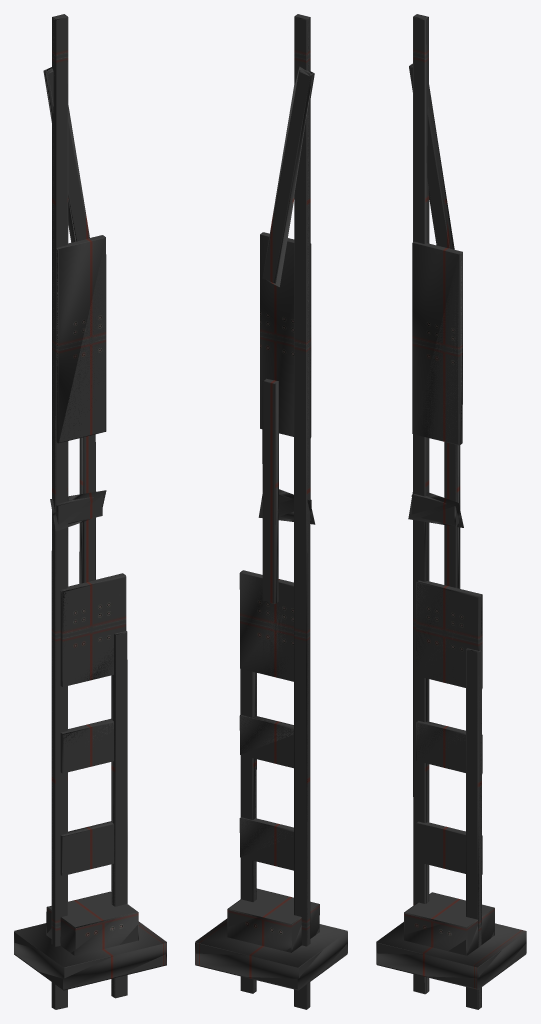
File: sm_skyscraper_module12.glb
The picture shows the model from 3 angles, left to right: view 1: azimuth 30°, elevation 25°; view 2: azimuth 150°, elevation 25°; view 3: azimuth 330°, elevation 25°; orthographic projection.
Parts seen in each view (by area): view 1: sm_skyscraper_module12_00; view 2: sm_skyscraper_module12_00; view 3: sm_skyscraper_module12_00.
Part boxes in pixels (bbox=[...]): sm_skyscraper_module12_00: bbox=[14, 14, 166, 1009]; sm_skyscraper_module12_00: bbox=[195, 14, 347, 1009]; sm_skyscraper_module12_00: bbox=[376, 14, 526, 1009].
Size of the model in its own units: 2.87 by 26.24 by 2.38.
1 material, 1 textured.
